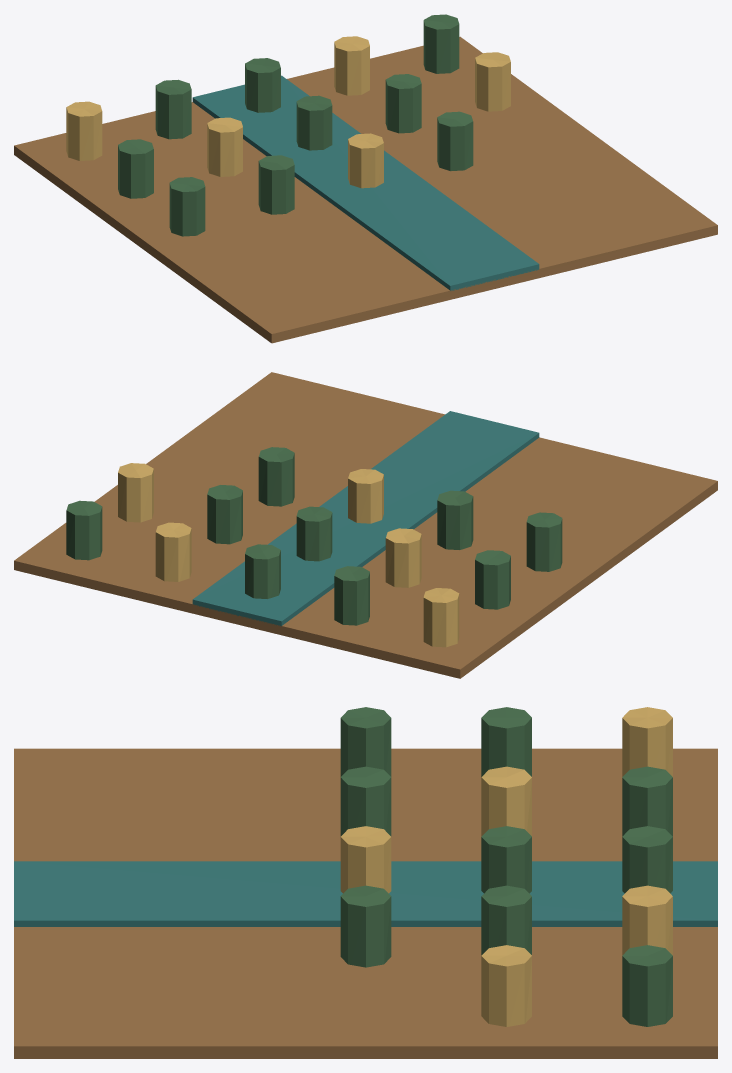
The model's file is riparian-buffer.source.glb.
The picture shows the model from 3 angles, top to bottom: view 1: azimuth 30°, elevation 25°; view 2: azimuth 150°, elevation 25°; view 3: azimuth 270°, elevation 25°; orthographic projection. The views are drawn at different scales.
Visible parts, largest first — view 1: riparian-buffer-ground-mesh, riparian-buffer-water-mesh, riparian-buffer-plant-10-mesh, riparian-buffer-plant-4-mesh, riparian-buffer-plant-11-mesh, riparian-buffer-plant-1-mesh, riparian-buffer-plant-0-mesh, riparian-buffer-plant-8-mesh, riparian-buffer-plant-13-mesh, riparian-buffer-plant-9-mesh, riparian-buffer-plant-3-mesh, riparian-buffer-plant-5-mesh (+4 smaller); view 2: riparian-buffer-ground-mesh, riparian-buffer-water-mesh, riparian-buffer-plant-10-mesh, riparian-buffer-plant-6-mesh, riparian-buffer-plant-13-mesh, riparian-buffer-plant-4-mesh, riparian-buffer-plant-3-mesh, riparian-buffer-plant-11-mesh, riparian-buffer-plant-0-mesh, riparian-buffer-plant-5-mesh, riparian-buffer-plant-1-mesh, riparian-buffer-plant-8-mesh (+4 smaller); view 3: riparian-buffer-ground-mesh, riparian-buffer-water-mesh, riparian-buffer-plant-13-mesh, riparian-buffer-plant-4-mesh, riparian-buffer-plant-9-mesh, riparian-buffer-plant-10-mesh, riparian-buffer-plant-11-mesh, riparian-buffer-plant-12-mesh, riparian-buffer-plant-1-mesh, riparian-buffer-plant-3-mesh, riparian-buffer-plant-5-mesh, riparian-buffer-plant-6-mesh (+4 smaller).
Boxes of the visible parts, x1,y1,x2,y2 form: riparian-buffer-ground-mesh: [14, 36, 717, 343]; riparian-buffer-water-mesh: [192, 75, 539, 290]; riparian-buffer-plant-10-mesh: [169, 177, 205, 236]; riparian-buffer-plant-4-mesh: [423, 14, 459, 73]; riparian-buffer-plant-11-mesh: [258, 155, 294, 214]; riparian-buffer-plant-1-mesh: [155, 79, 191, 139]; riparian-buffer-plant-0-mesh: [66, 101, 102, 160]; riparian-buffer-plant-8-mesh: [385, 74, 421, 133]; riparian-buffer-plant-13-mesh: [437, 111, 473, 171]; riparian-buffer-plant-9-mesh: [475, 52, 510, 111]; riparian-buffer-plant-3-mesh: [334, 36, 369, 95]; riparian-buffer-plant-5-mesh: [118, 139, 153, 198]; riparian-buffer-ground-mesh: [14, 372, 717, 678]; riparian-buffer-water-mesh: [192, 411, 539, 626]; riparian-buffer-plant-10-mesh: [526, 512, 562, 571]; riparian-buffer-plant-6-mesh: [385, 528, 421, 587]; riparian-buffer-plant-13-mesh: [258, 447, 294, 506]; riparian-buffer-plant-4-mesh: [66, 500, 102, 560]; riparian-buffer-plant-3-mesh: [155, 522, 191, 581]; riparian-buffer-plant-11-mesh: [437, 490, 473, 549]; riparian-buffer-plant-0-mesh: [423, 588, 459, 647]; riparian-buffer-plant-5-mesh: [475, 550, 510, 609]; riparian-buffer-plant-1-mesh: [334, 566, 369, 625]; riparian-buffer-plant-8-mesh: [207, 485, 242, 544]; riparian-buffer-ground-mesh: [14, 748, 717, 1058]; riparian-buffer-water-mesh: [14, 861, 717, 926]; riparian-buffer-plant-13-mesh: [340, 885, 391, 967]; riparian-buffer-plant-4-mesh: [622, 945, 672, 1026]; riparian-buffer-plant-9-mesh: [481, 945, 531, 1026]; riparian-buffer-plant-10-mesh: [340, 707, 391, 776]; riparian-buffer-plant-11-mesh: [340, 766, 391, 836]; riparian-buffer-plant-12-mesh: [340, 826, 391, 893]; riparian-buffer-plant-1-mesh: [622, 766, 672, 836]; riparian-buffer-plant-3-mesh: [622, 885, 672, 955]; riparian-buffer-plant-5-mesh: [481, 707, 531, 776]; riparian-buffer-plant-6-mesh: [481, 766, 531, 836].
Size of the model in its own units: 5 by 0.575 by 5.
